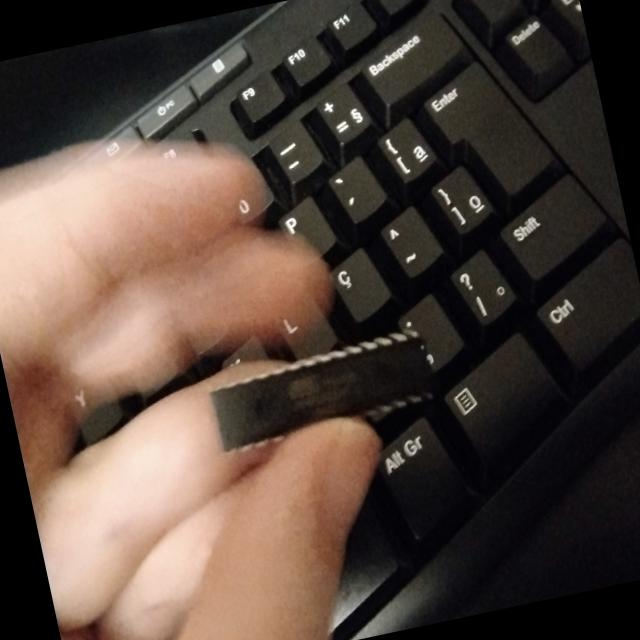atmega: (197, 317, 448, 458)
